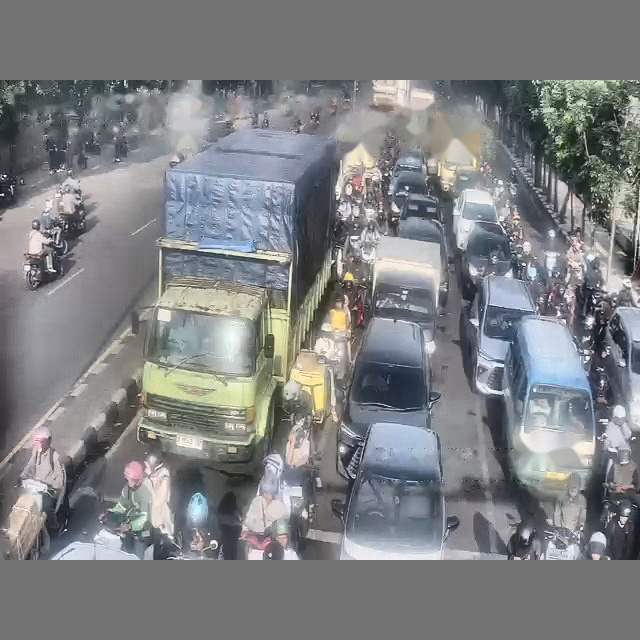Mobil: (331, 423, 459, 559), (336, 317, 440, 478), (461, 276, 537, 395), (397, 218, 453, 307), (605, 307, 639, 431), (459, 222, 512, 299), (452, 189, 499, 250), (388, 171, 428, 220), (400, 194, 442, 222), (393, 151, 426, 176), (453, 169, 477, 194)
Motor: (2, 479, 51, 559), (23, 251, 63, 290), (543, 527, 581, 559), (0, 173, 18, 205)
Truk: (137, 129, 338, 476)
